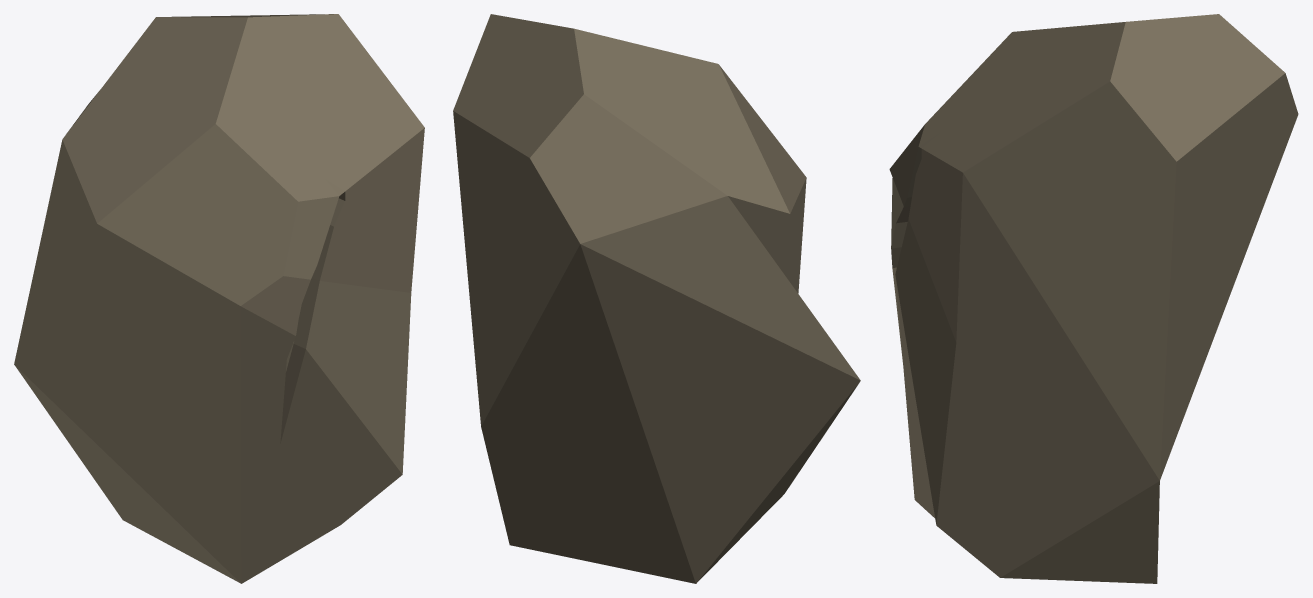
The model's file is Big_Rock_1.fbx.
3 views of the same model, side by side, from view 1: azimuth 30°, elevation 25°; view 2: azimuth 150°, elevation 25°; view 3: azimuth 270°, elevation 25° (orthographic). The views are drawn at different scales.
Visible parts, largest first — view 1: rock_8; view 2: rock_8; view 3: rock_8.
Boxes of the visible parts, left/top/right/bottom form: rock_8: left=14, top=14, right=424, bottom=583; rock_8: left=453, top=14, right=860, bottom=583; rock_8: left=889, top=14, right=1298, bottom=583.
Bounding box in the file's own units: 145 × 187 × 129.
